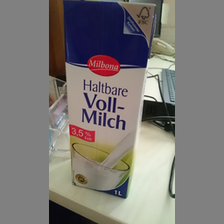milk: (60, 1, 159, 206)
